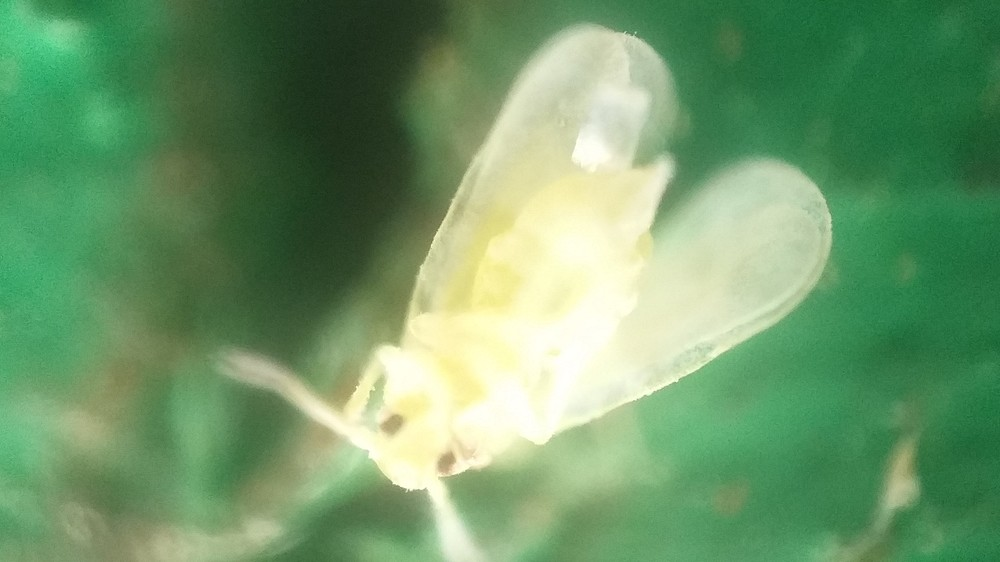Mosca Blanca: (201, 19, 840, 558)
